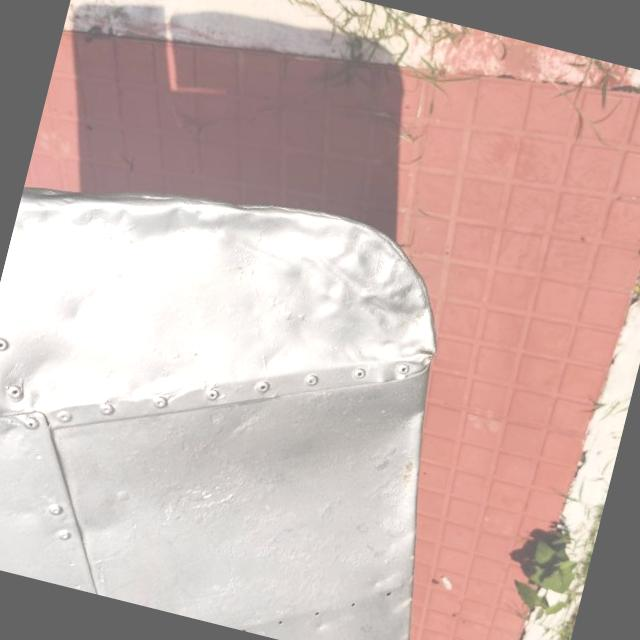dent: (7, 140, 306, 322), (290, 208, 465, 368), (48, 264, 138, 360), (0, 323, 76, 434)
